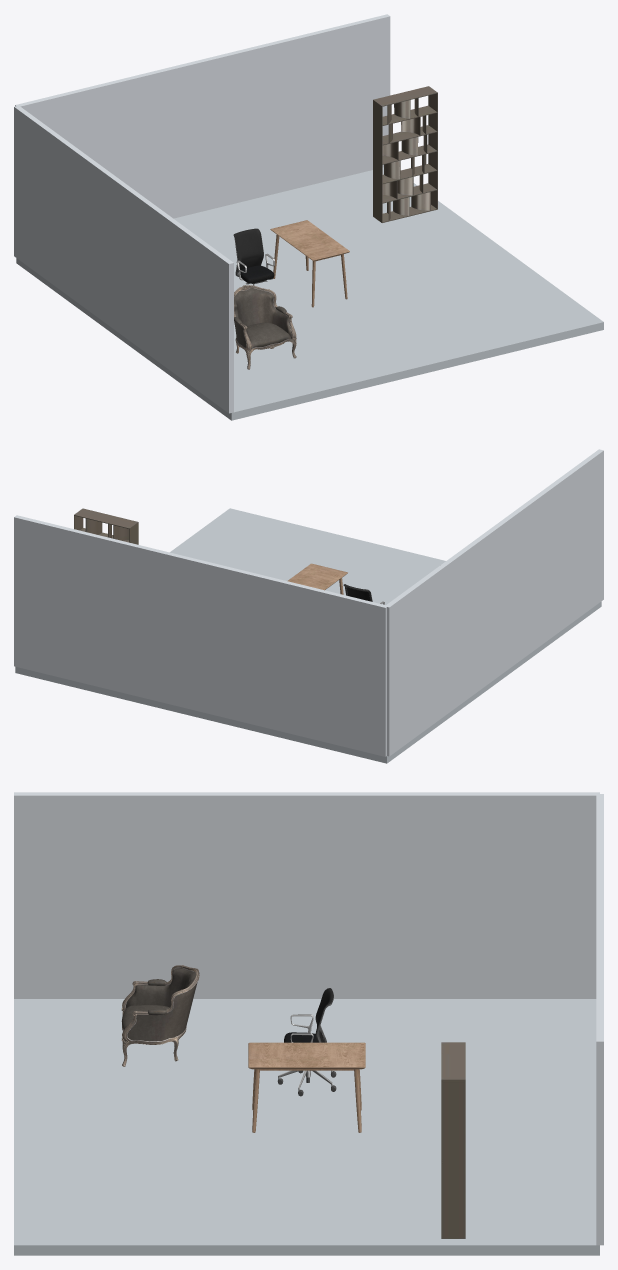
File: stage3.glb
The picture shows the model from 3 angles, top to bottom: view 1: azimuth 30°, elevation 25°; view 2: azimuth 150°, elevation 25°; view 3: azimuth 270°, elevation 25°; orthographic projection. The views are drawn at different scales.
Visible parts, largest first — view 1: Floor, wall_back, wall_left, raw_model.002, raw_model.003, raw_model, raw_model.001; view 2: wall_back, wall_left, Floor, raw_model.002, raw_model; view 3: Floor, wall_left, raw_model.002, raw_model.003, raw_model, wall_back, raw_model.001.
Boxes of the visible parts, <box> form: Floor: <box>16,167,603,420</box>; wall_back: <box>15,14,390,218</box>; wall_left: <box>14,105,233,413</box>; raw_model.002: <box>373,86,437,222</box>; raw_model.003: <box>234,285,296,369</box>; raw_model: <box>270,220,349,307</box>; raw_model.001: <box>233,228,274,292</box>; wall_back: <box>14,515,387,756</box>; wall_left: <box>386,449,603,756</box>; Floor: <box>15,508,601,763</box>; raw_model.002: <box>74,508,138,544</box>; raw_model: <box>287,563,347,594</box>; Floor: <box>14,999,599,1255</box>; wall_left: <box>14,792,599,998</box>; raw_model.002: <box>441,1042,465,1238</box>; raw_model.003: <box>121,965,199,1066</box>; raw_model: <box>248,1042,365,1132</box>; wall_back: <box>596,794,603,1245</box>; raw_model.001: <box>277,988,336,1096</box>.
Size of the model in its own units: 6.04 by 2.42 by 6.04.
6 materials, 4 textured.
